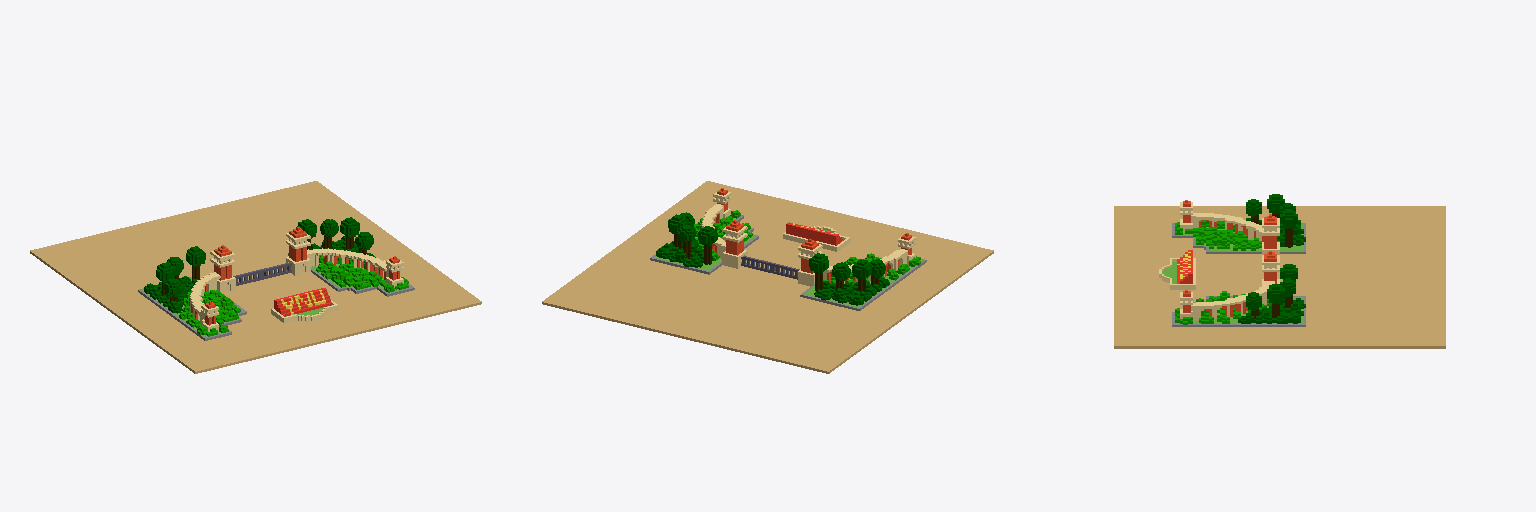
3 renders of one model, left to right at view 1: azimuth 30°, elevation 25°; view 2: azimuth 150°, elevation 25°; view 3: azimuth 270°, elevation 25°, orthographic.
Visible parts, largest first — view 1: 北门; view 2: 北门; view 3: 北门.
Boxes of the visible parts, x1,y1,x2,y2 form: 北门: [30, 181, 481, 373]; 北门: [542, 181, 993, 373]; 北门: [1114, 194, 1445, 348].
Bounding box in the file's own units: 126 × 19 × 126.
Materials: 1 (1 with a texture image).